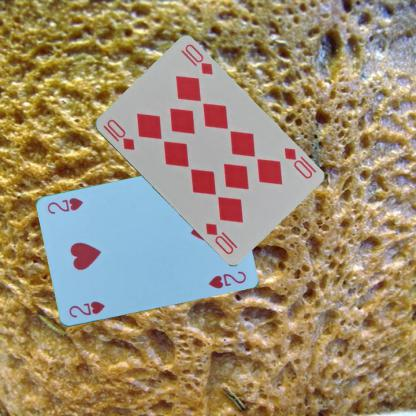10d: (103, 116, 136, 152), (281, 145, 314, 180)
2h: (66, 298, 106, 320)
